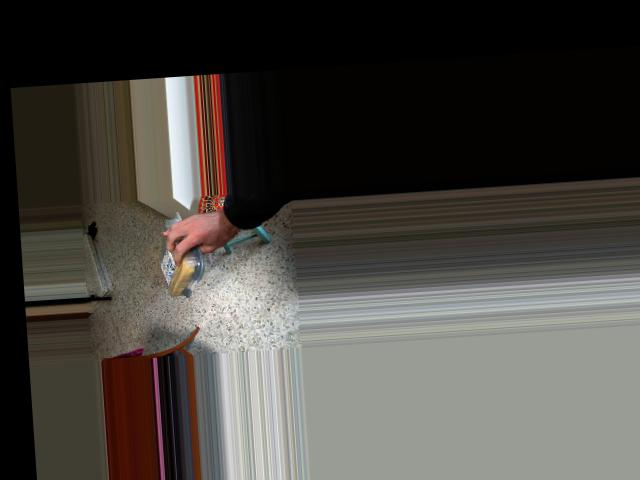cheese: (158, 222, 200, 298)
